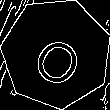O_NE: (25, 21, 88, 86)
